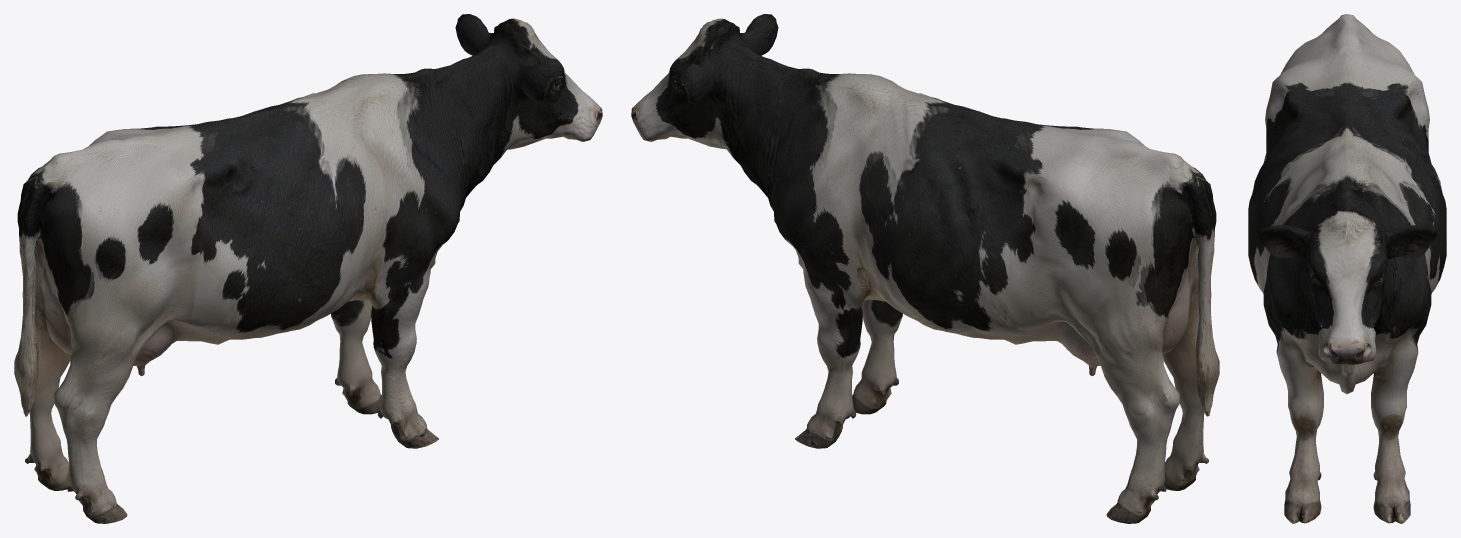
File: cow.glb
3 renders of one model, left to right at view 1: azimuth 30°, elevation 25°; view 2: azimuth 150°, elevation 25°; view 3: azimuth 270°, elevation 25°, orthographic. The views are drawn at different scales.
Parts seen in each view (by area): view 1: 4c8b0249-a9a8-4378-857d-d708f9b297cd_1; view 2: 4c8b0249-a9a8-4378-857d-d708f9b297cd_1; view 3: 4c8b0249-a9a8-4378-857d-d708f9b297cd_1.
Boxes of the visible parts, x1,y1,x2,y2 form: 4c8b0249-a9a8-4378-857d-d708f9b297cd_1: (14,14,602,523); 4c8b0249-a9a8-4378-857d-d708f9b297cd_1: (631,14,1219,523); 4c8b0249-a9a8-4378-857d-d708f9b297cd_1: (1248,14,1446,523).
Bounding box in the file's own units: 1 × 0.6145 × 0.3033.
Materials: 1 (1 with a texture image).
